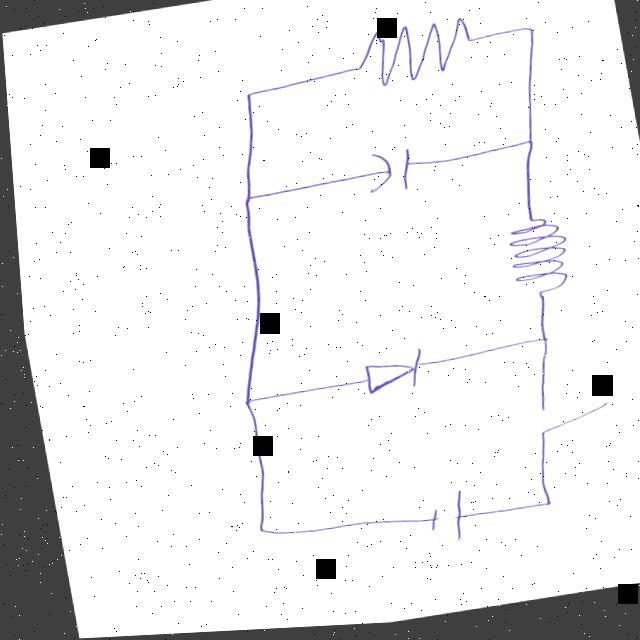capacitor: (331, 138, 446, 220)
diode: (321, 339, 438, 414)
inductor: (475, 197, 585, 315)
resistor: (304, 0, 510, 108)
source: (379, 483, 488, 565)
switch: (491, 377, 619, 468)
